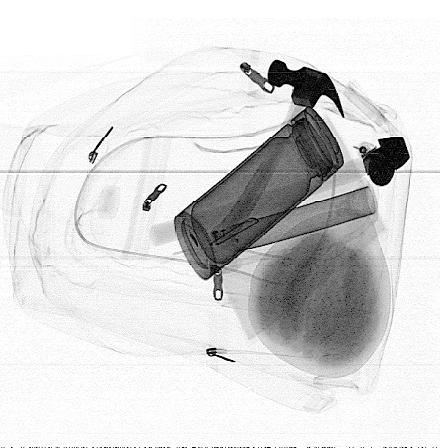Hammer: (148, 136, 411, 247), (210, 58, 345, 250)
